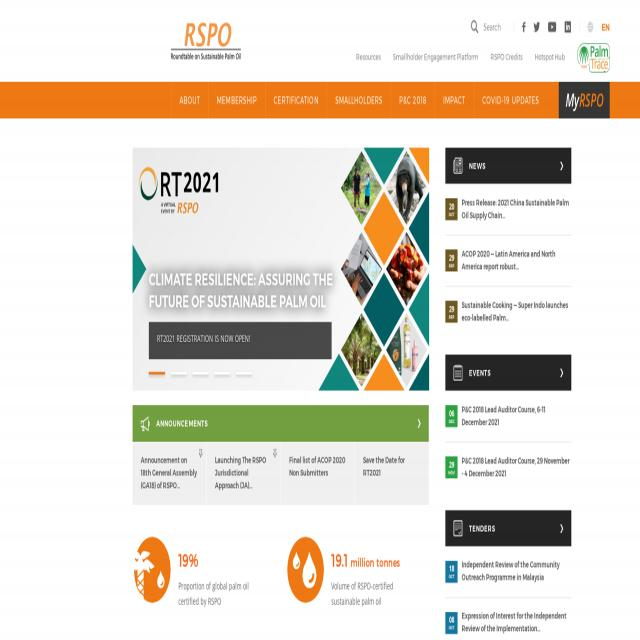button: (132, 147, 430, 390), (133, 405, 429, 442), (171, 0, 241, 82), (445, 354, 571, 392), (445, 148, 571, 185), (445, 510, 571, 547), (445, 196, 571, 222), (445, 454, 571, 480), (445, 558, 571, 584), (446, 612, 572, 638), (445, 299, 571, 324), (445, 248, 571, 272), (445, 404, 571, 428), (473, 82, 548, 119), (326, 82, 391, 119), (265, 82, 327, 119), (208, 82, 266, 119), (558, 82, 610, 119), (391, 82, 435, 119), (434, 82, 474, 119), (171, 82, 209, 119), (571, 43, 609, 72), (585, 13, 615, 42), (471, 17, 483, 38), (169, 369, 188, 378), (213, 369, 232, 378), (148, 369, 166, 378), (190, 370, 210, 378), (234, 370, 253, 378), (520, 19, 528, 34), (548, 22, 556, 33), (565, 21, 571, 33), (534, 22, 540, 33)
field: (483, 16, 505, 38)
